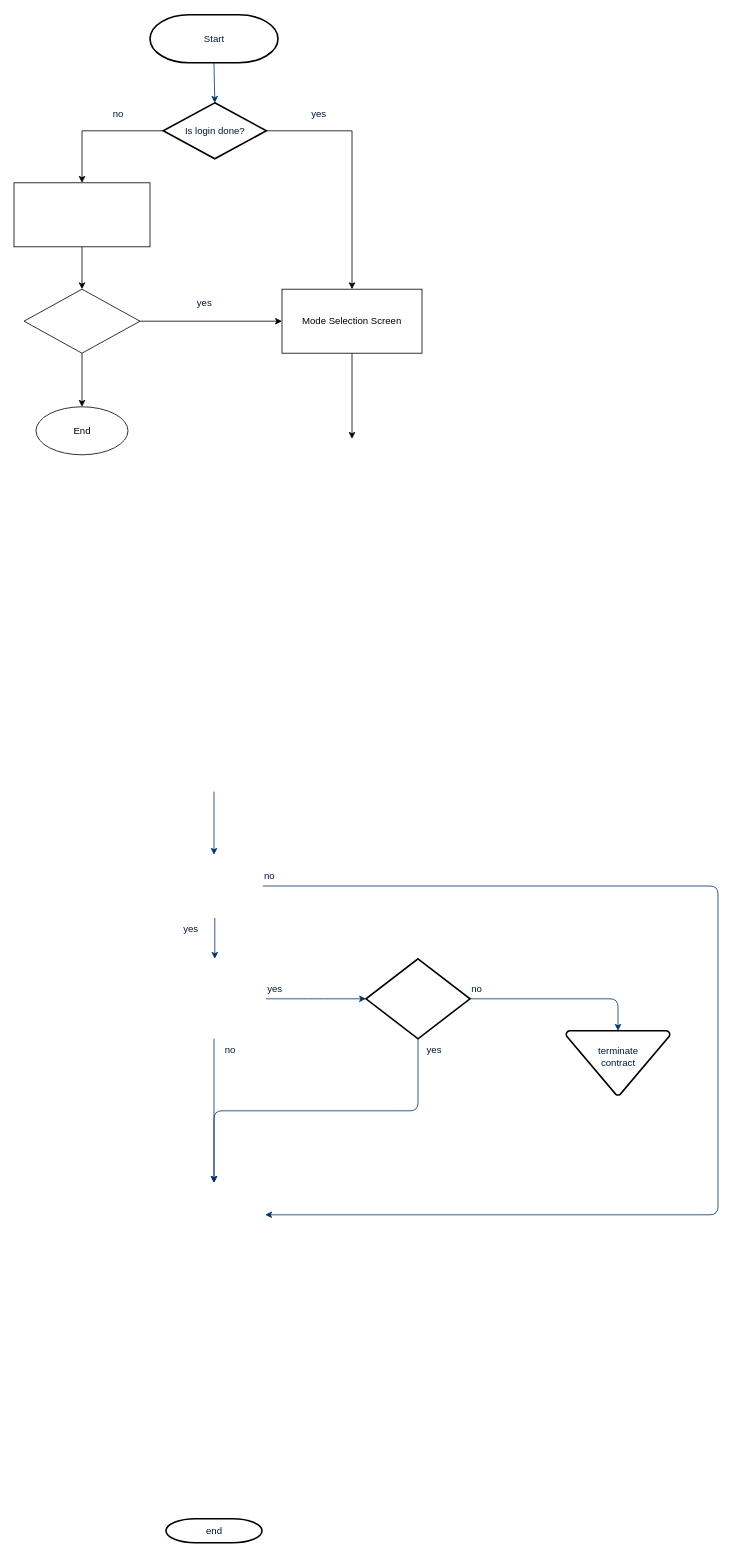
Image size: 738x1557. Some labels were removed from this diagram. The centre of each missing label's shape, as x and y in pixels:
"agreement?" goes at (x=417, y=998).
"Login Screen" goes at (x=81, y=214).
"Login successful?" goes at (x=81, y=320).
